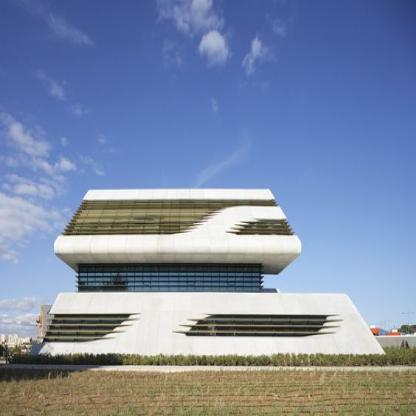Building Outline: (37, 189, 386, 355)
Facade: (37, 187, 386, 355)
Glass Wall: (63, 200, 277, 235), (79, 265, 260, 293), (187, 315, 327, 337), (43, 315, 130, 342), (236, 221, 291, 235)
